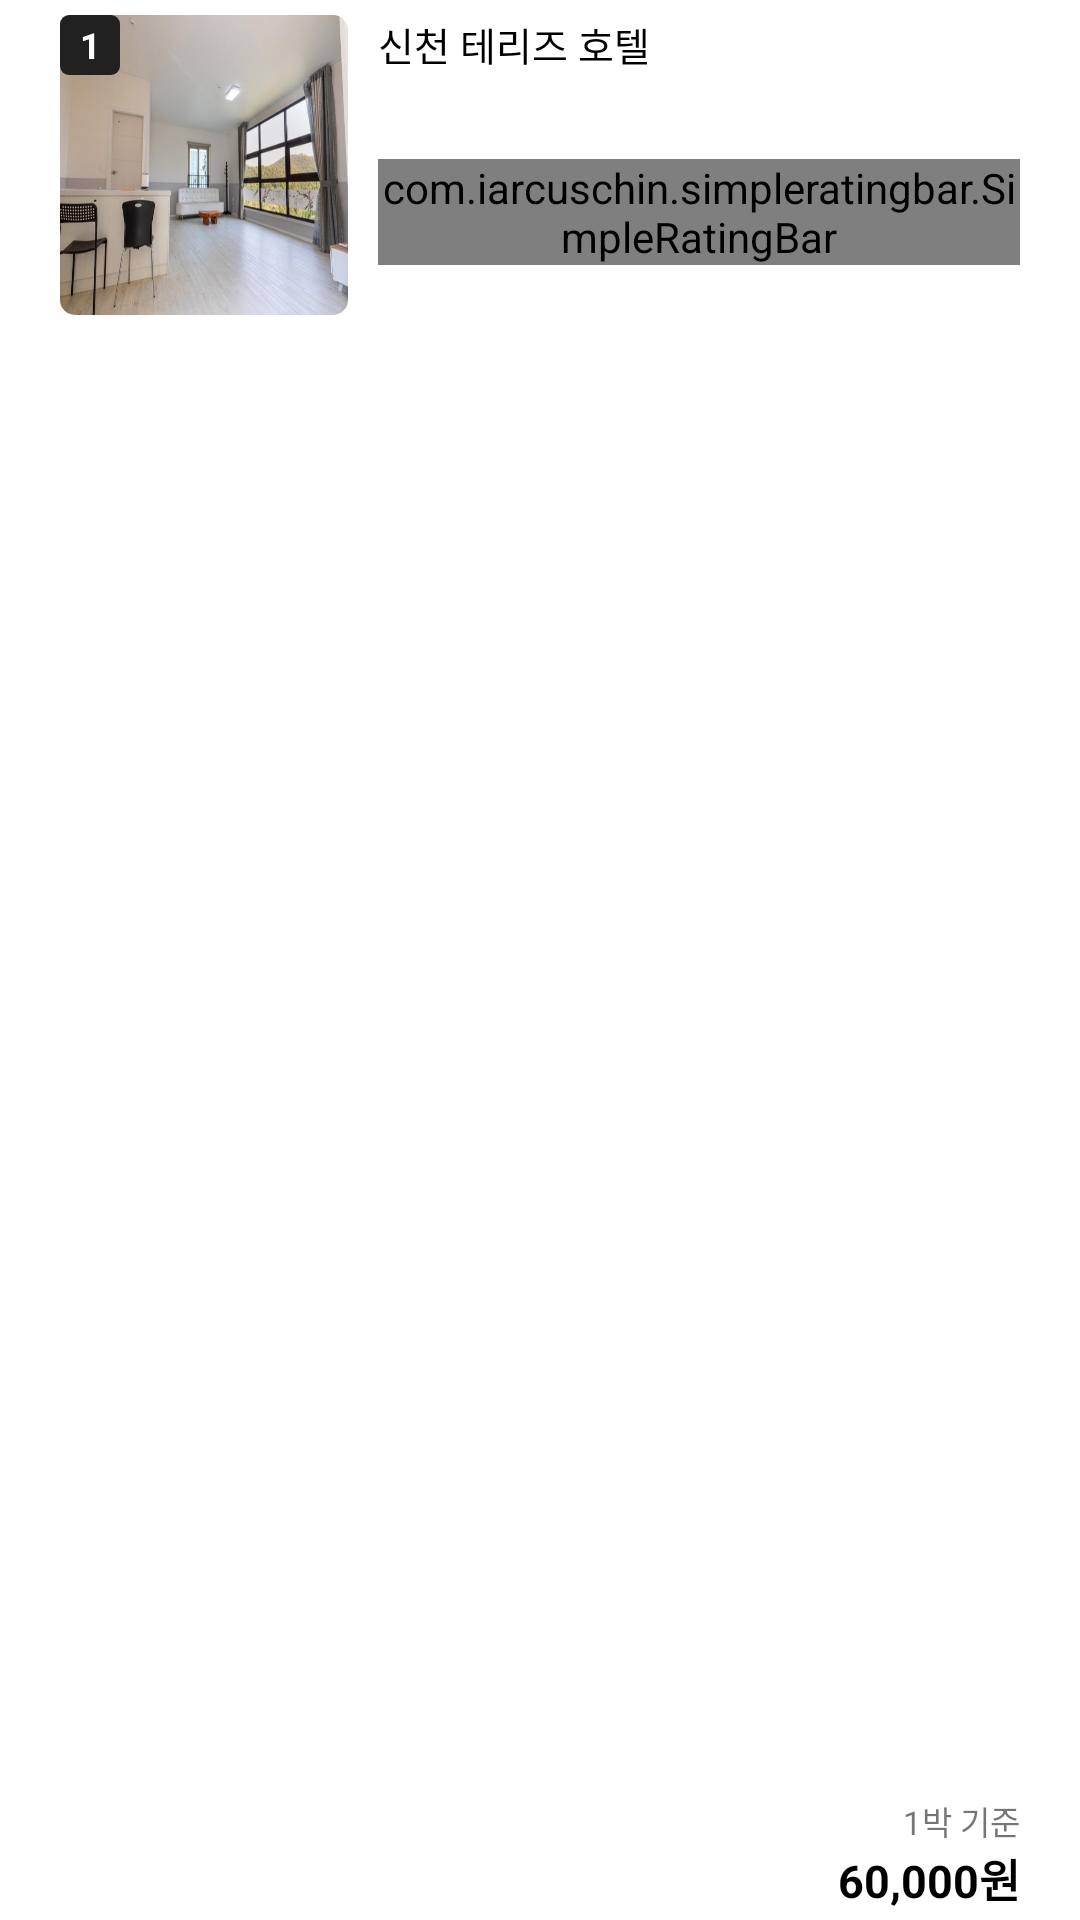

Icon bounding boxes for this 1080×1920 phone screenshot, format (x1, y1, x2, y2):
ranking item: (60, 15, 348, 315)
